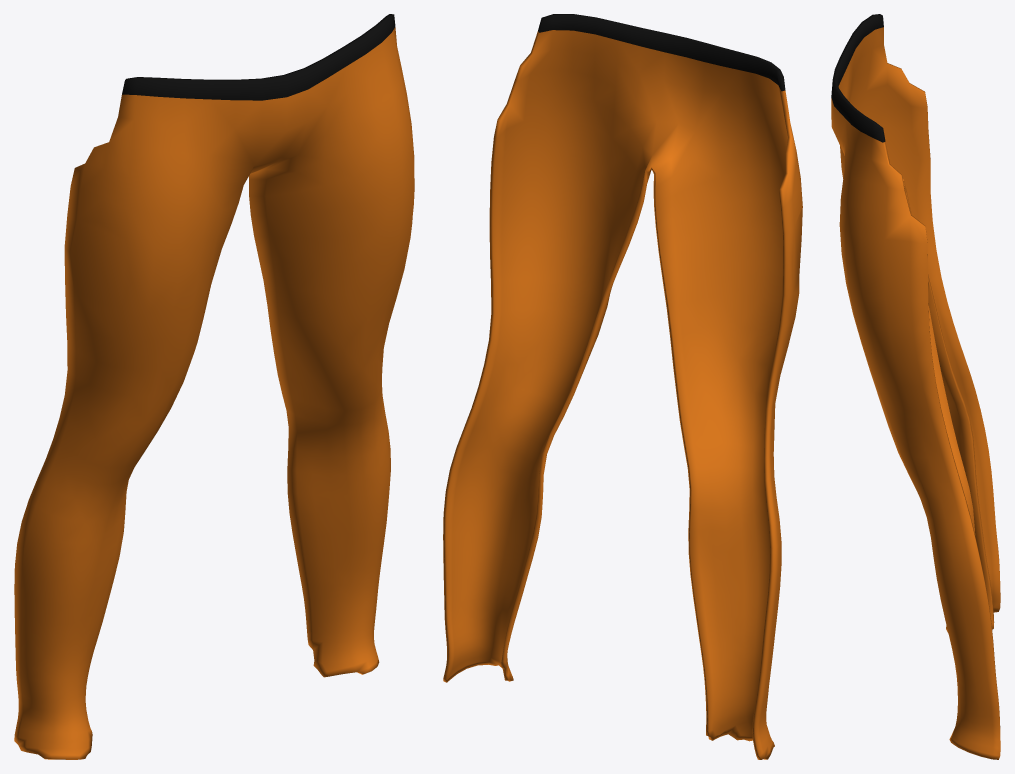
Rendered from chaps.glb.
3 renders of one model, left to right at view 1: azimuth 30°, elevation 25°; view 2: azimuth 150°, elevation 25°; view 3: azimuth 270°, elevation 25°, orthographic. The views are drawn at different scales.
Parts seen in each view (by area): view 1: GEO-body_male_realistic.001; view 2: GEO-body_male_realistic.001; view 3: GEO-body_male_realistic.001.
Part boxes in pixels (x1,y1,x2,y2): GEO-body_male_realistic.001: (14,14,414,759); GEO-body_male_realistic.001: (443,14,802,759); GEO-body_male_realistic.001: (831,14,1000,759).
Bounding box in the file's own units: 0.4385 × 0.8161 × 0.2007.
